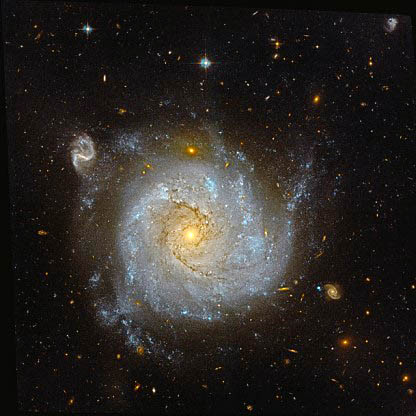NGC 1309: (55, 102, 372, 357)
